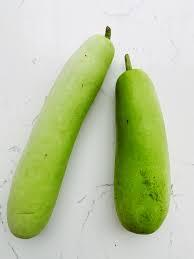bottle gourd: (6, 25, 114, 239), (113, 52, 171, 234)
